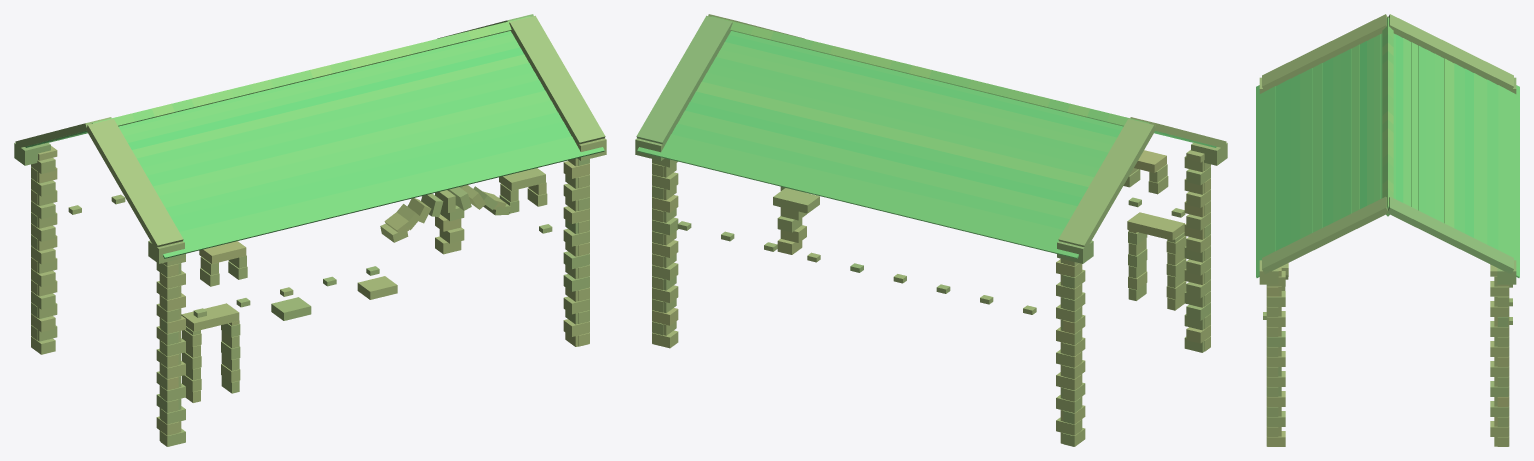
Rendered from SM_Bld_003_Stone.glb.
3 renders of one model, left to right at view 1: azimuth 30°, elevation 25°; view 2: azimuth 150°, elevation 25°; view 3: azimuth 270°, elevation 25°, orthographic. The views are drawn at different scales.
Parts seen in each view (by area): view 1: SM_Bld_003_Stone; view 2: SM_Bld_003_Stone; view 3: SM_Bld_003_Stone.
Boxes of the visible parts, bbox=[...] form: SM_Bld_003_Stone: bbox=[14, 14, 606, 446]; SM_Bld_003_Stone: bbox=[635, 14, 1227, 446]; SM_Bld_003_Stone: bbox=[1256, 14, 1519, 446].
Bounding box in the file's own units: 12.45 × 7.33 × 7.17.
